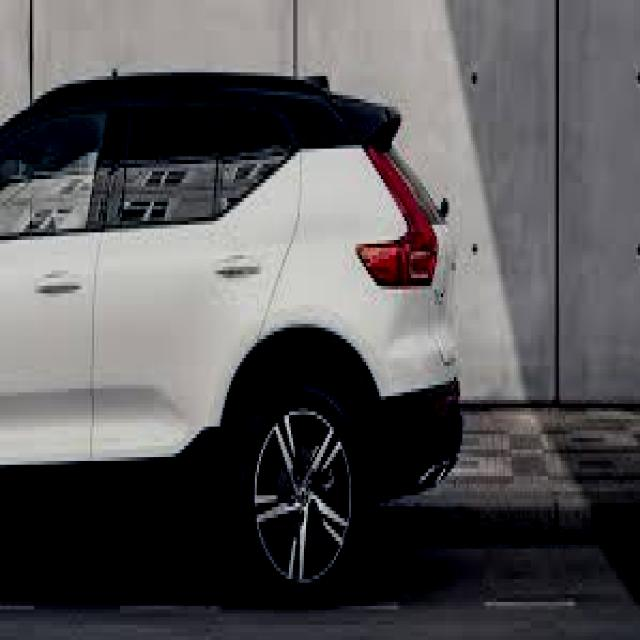SUV: (6, 66, 463, 604)
